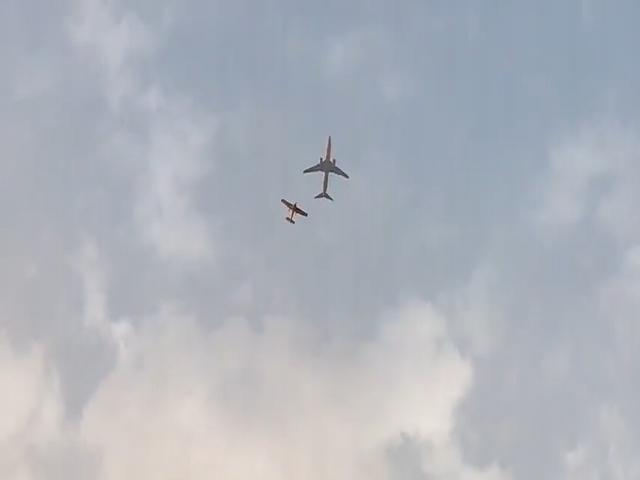plane: (304, 137, 349, 200), (280, 198, 310, 225)
